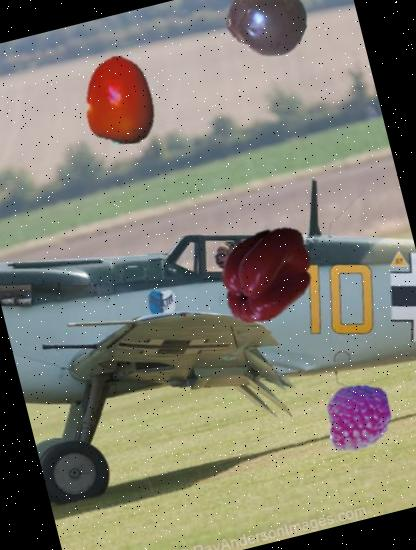Kaki: (66, 47, 174, 154)
Passion: (217, 0, 315, 68)
Pepper: (210, 217, 326, 334)
Raspberry: (320, 376, 400, 457)
